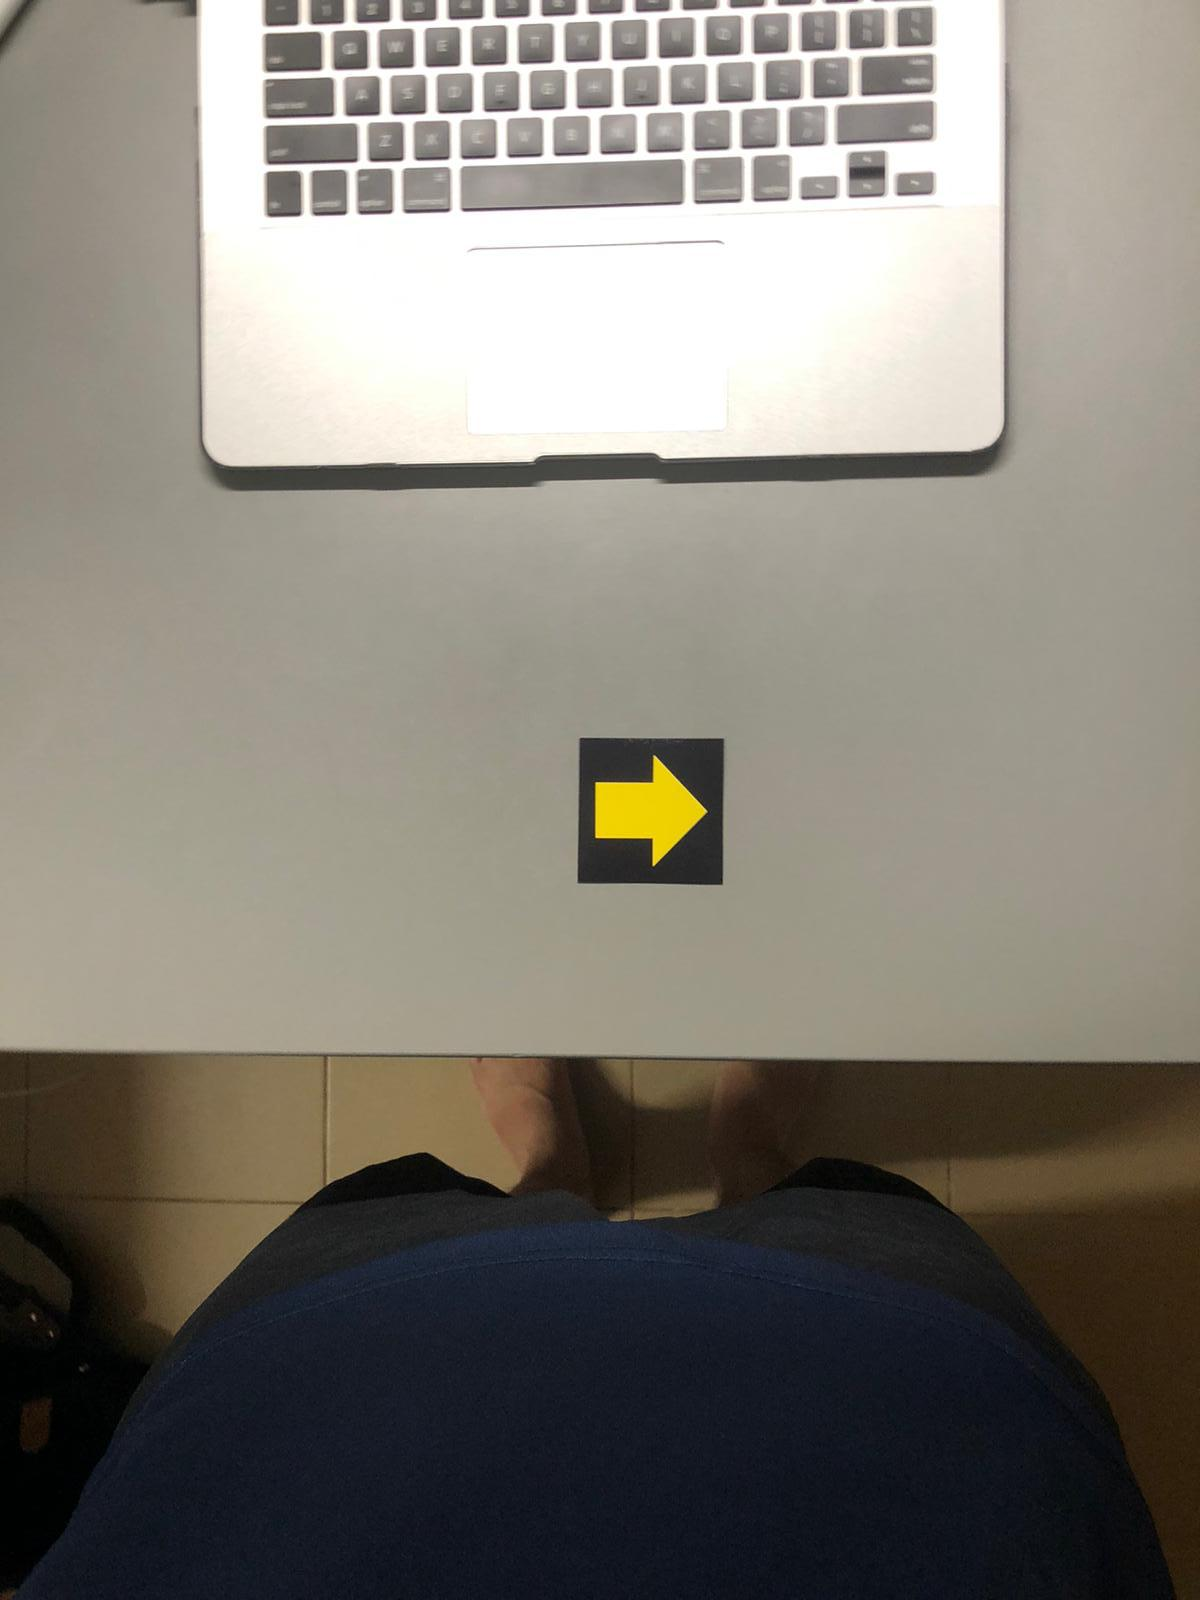Right Arrow: (577, 736, 718, 881)
